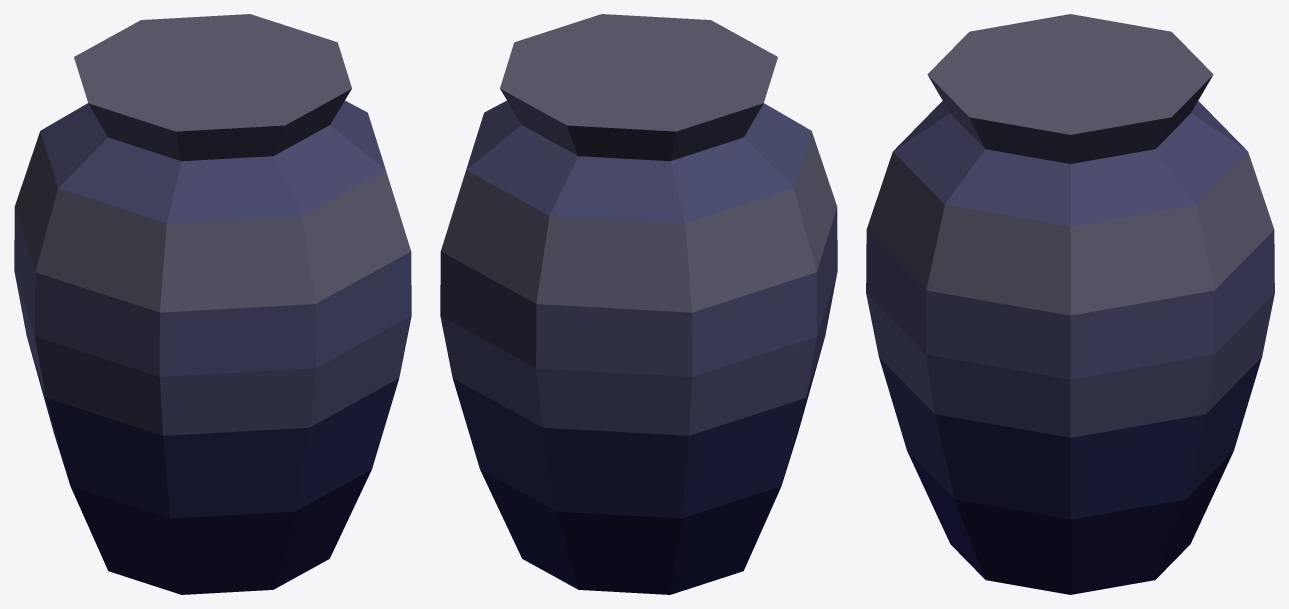
File: Urn.fbx
The picture shows the model from 3 angles, left to right: view 1: azimuth 30°, elevation 25°; view 2: azimuth 150°, elevation 25°; view 3: azimuth 270°, elevation 25°; orthographic projection.
Parts seen in each view (by area): view 1: UrnaCenario; view 2: UrnaCenario; view 3: UrnaCenario.
Part boxes in pixels (box(x1,y1,x2,y2)): UrnaCenario: box(14, 14, 411, 594); UrnaCenario: box(440, 14, 837, 594); UrnaCenario: box(866, 14, 1274, 594).
Bounding box in the file's own units: 23.66 × 30 × 23.66.
